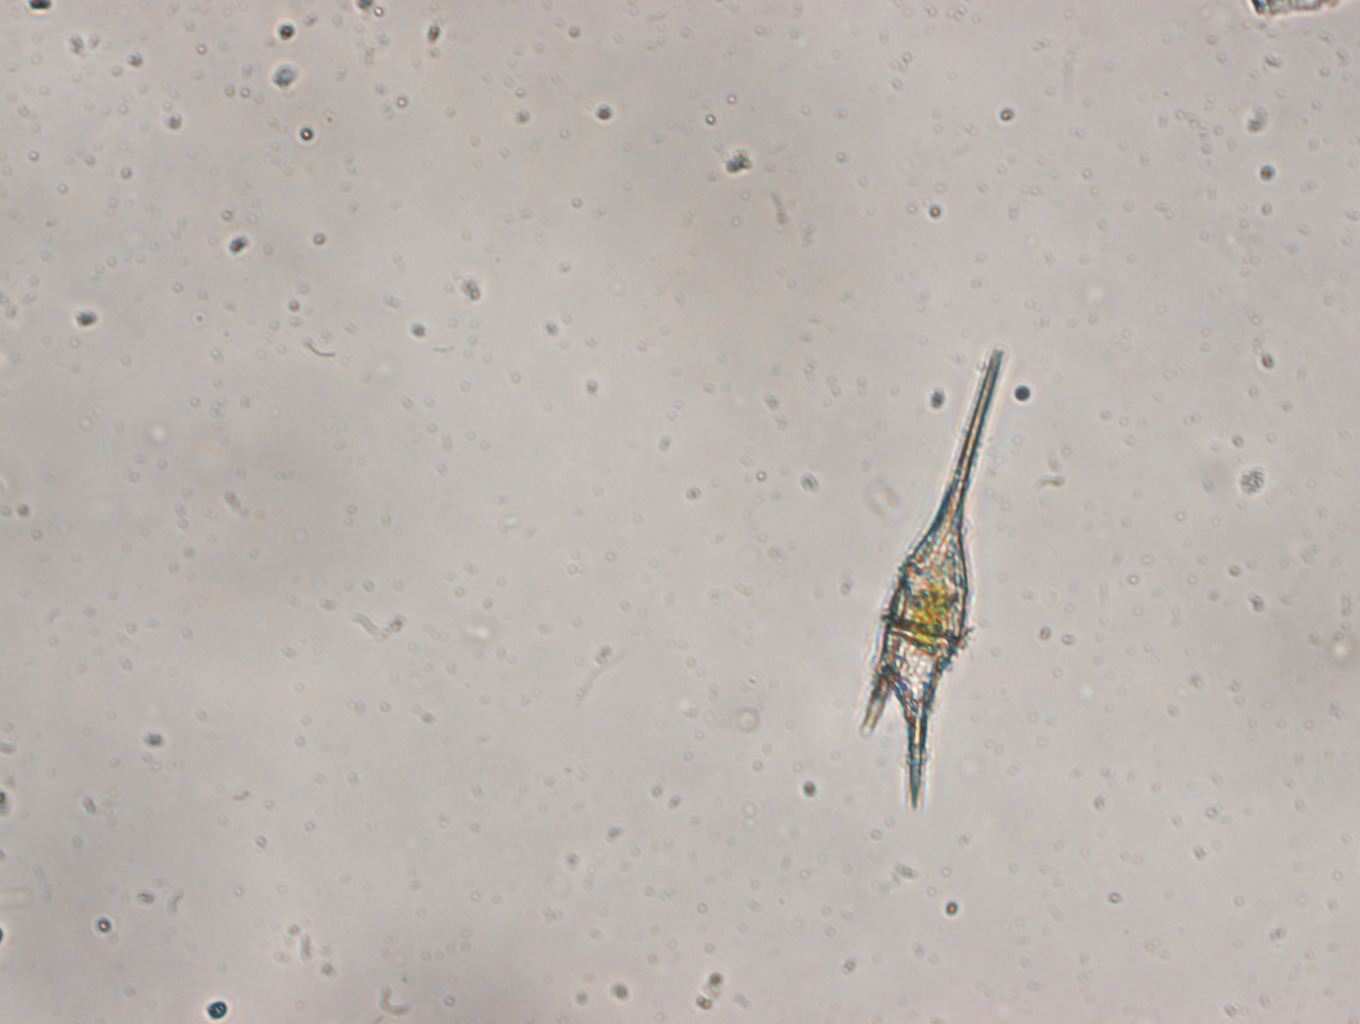ceratium furca: (855, 343, 1016, 814)
